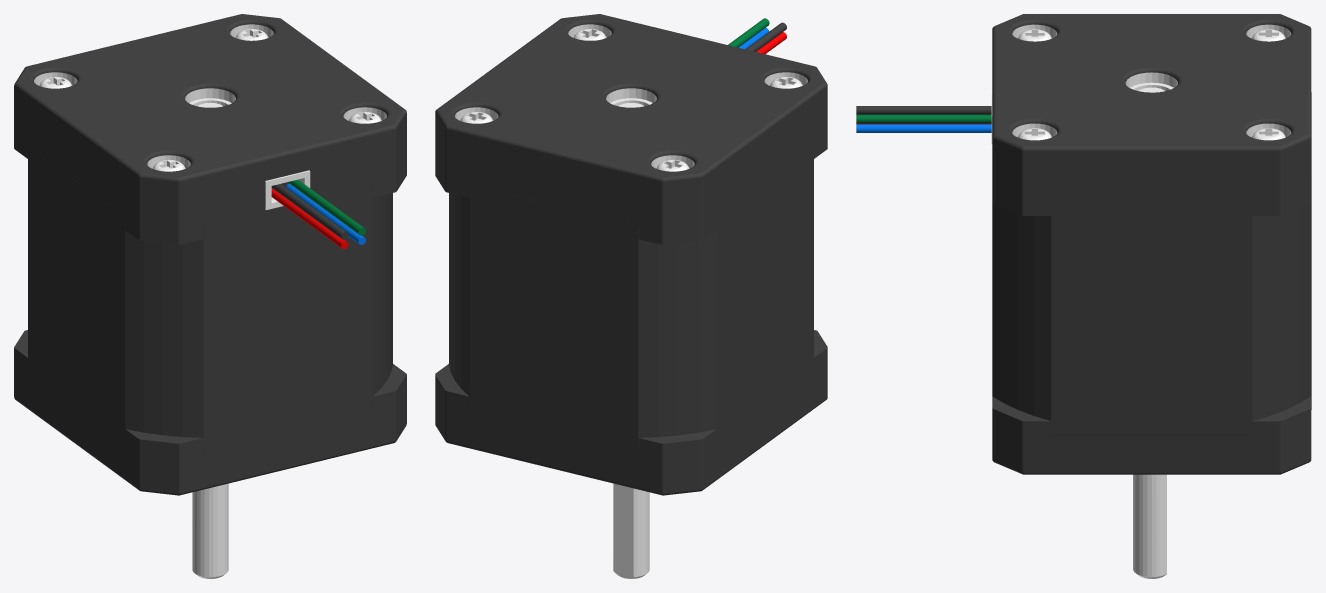
3 renders of one model, left to right at view 1: azimuth 30°, elevation 25°; view 2: azimuth 150°, elevation 25°; view 3: azimuth 270°, elevation 25°, orthographic. The views are drawn at different scales.
Bounding box in the file's own units: 42.32 × 72 × 60.31.
